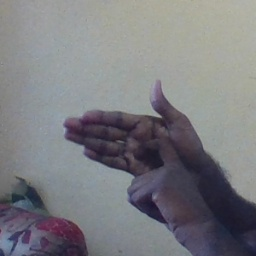R: (63, 73, 198, 211)
